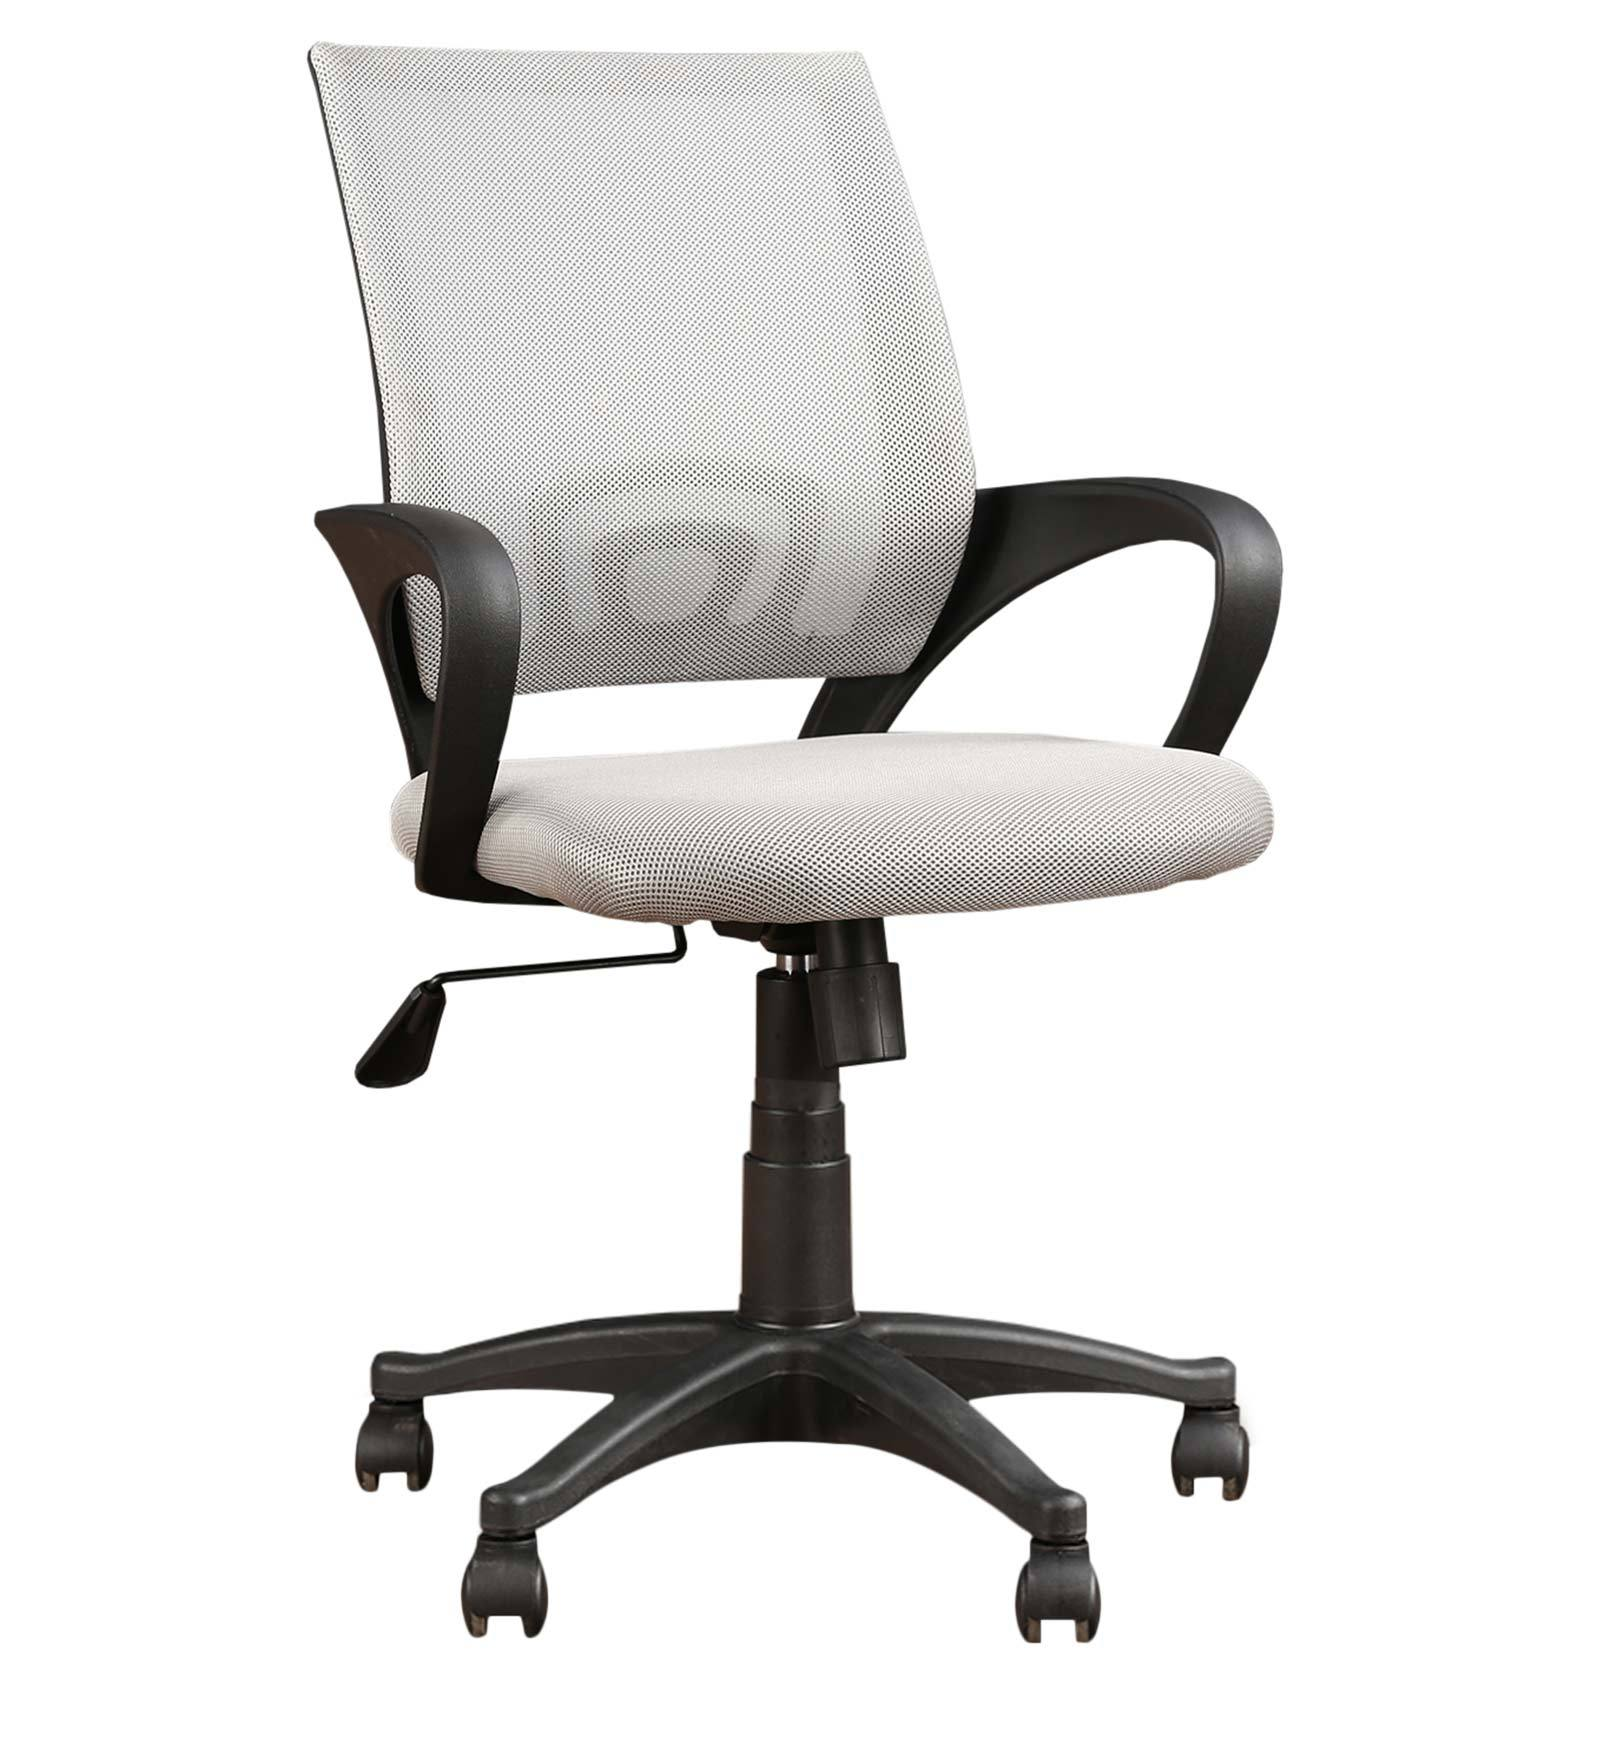Bolton Low Back Ergonomic Chair in Grey Colour by HomeTown: (187, 20, 1338, 1663)
